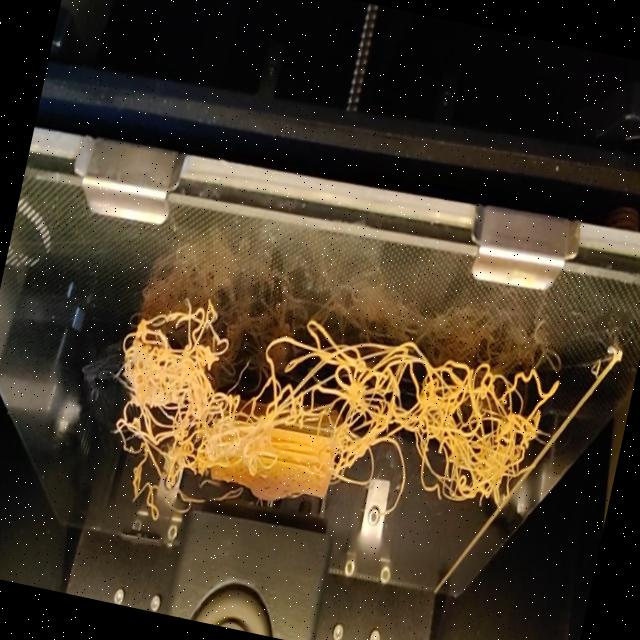spaghetti: (90, 273, 563, 571), (126, 488, 165, 527)
